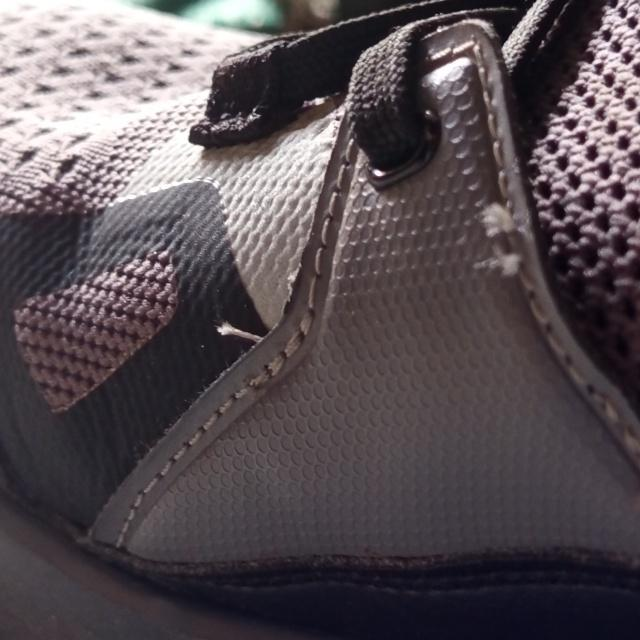broken: (464, 200, 532, 286)
